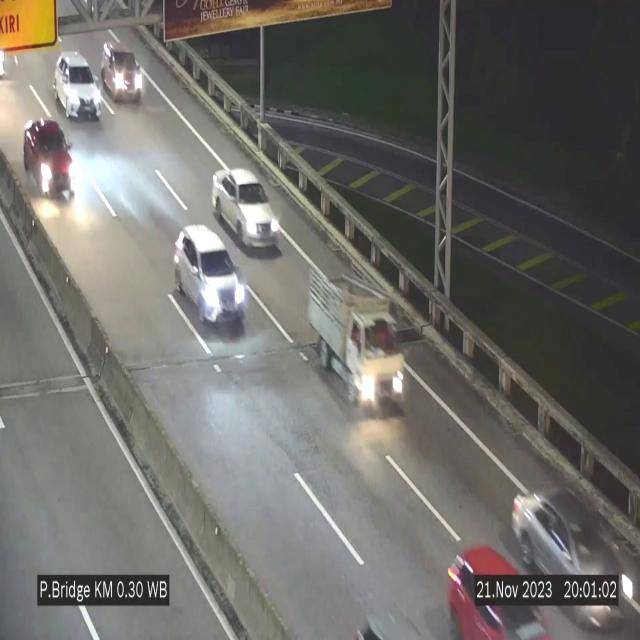Car: (511, 468, 627, 628), (441, 532, 557, 640), (173, 226, 247, 327), (212, 169, 280, 251), (26, 119, 78, 216), (55, 51, 101, 118), (101, 42, 142, 102)
Truck: (304, 252, 408, 417)
